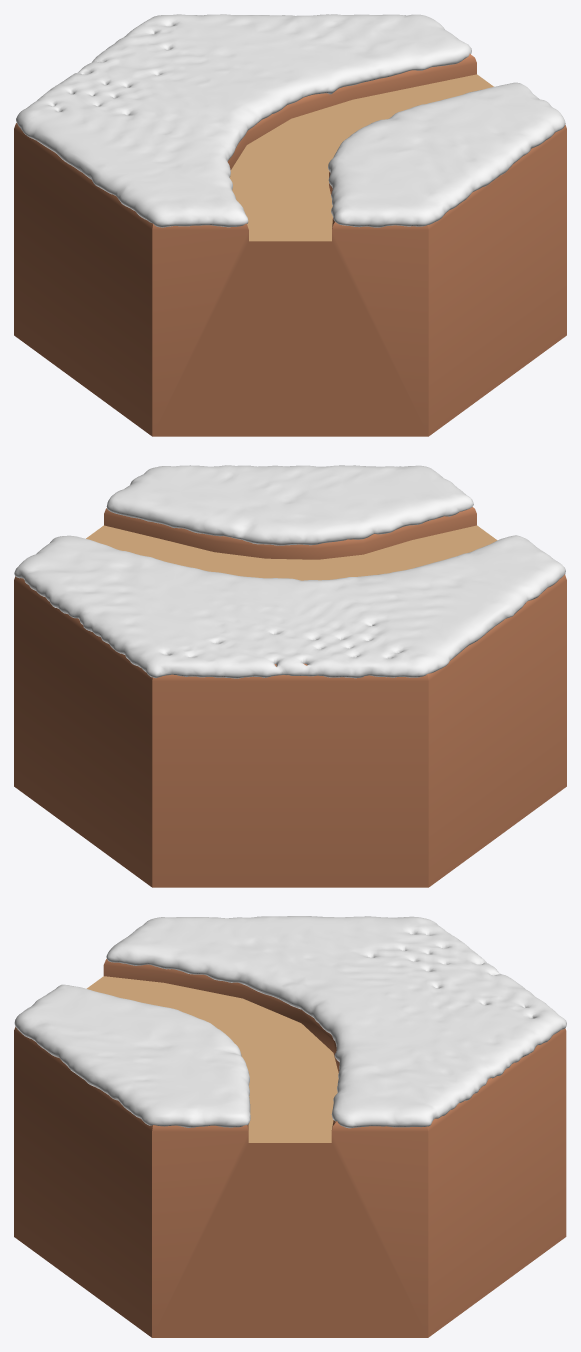
Rendered from hex_rock_roadD.fbx.
The picture shows the model from 3 angles, top to bottom: view 1: azimuth 30°, elevation 25°; view 2: azimuth 150°, elevation 25°; view 3: azimuth 270°, elevation 25°; orthographic projection.
Parts seen in each view (by area): view 1: hex_rock_roadD.001, SnowBall.001, hex_rock_roadD; view 2: hex_rock_roadD.001, SnowBall.001, hex_rock_roadD; view 3: hex_rock_roadD.001, SnowBall.001, hex_rock_roadD.
Boxes of the visible parts, x1,y1,x2,y2 form: hex_rock_roadD.001: (14,54,566,436); SnowBall.001: (16,14,565,227); hex_rock_roadD: (230,74,493,241); hex_rock_roadD.001: (14,507,566,887); SnowBall.001: (14,465,565,678); hex_rock_roadD: (86,525,497,580); hex_rock_roadD.001: (14,959,566,1337); SnowBall.001: (14,916,566,1128); hex_rock_roadD: (86,976,338,1142).
Size of the model in its own units: 203 by 104 by 231.
